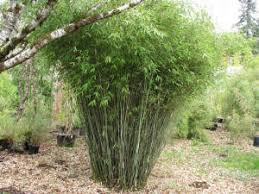bamboo: (31, 2, 219, 106), (83, 1, 151, 185)
